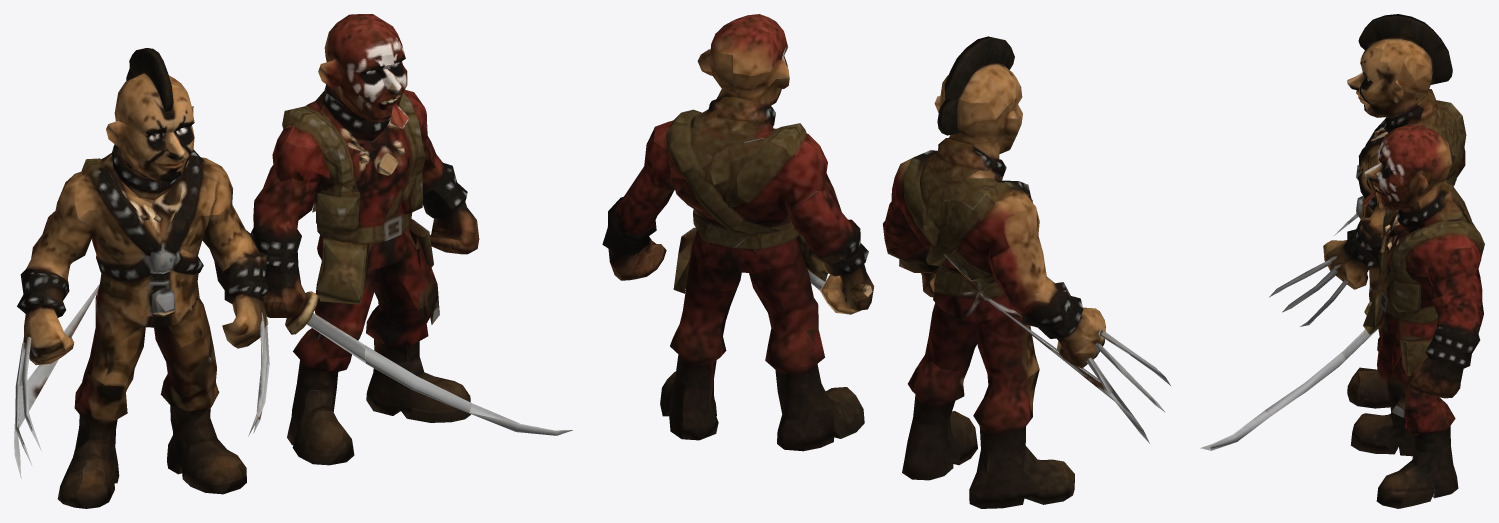
Rendered from deadpool_wolverine.glb.
3 renders of one model, left to right at view 1: azimuth 30°, elevation 25°; view 2: azimuth 150°, elevation 25°; view 3: azimuth 270°, elevation 25°, orthographic. The views are drawn at different scales.
Parts seen in each view (by area): view 1: mesh_node; view 2: mesh_node; view 3: mesh_node.
Part boxes in pixels (x1=…): mesh_node: x1=14, y1=14, x2=572, y2=508; mesh_node: x1=602, y1=14, x2=1170, y2=508; mesh_node: x1=1200, y1=14, x2=1484, y2=508.
Size of the model in its own units: 1 by 0.8438 by 0.5977.
1 material, 1 textured.
